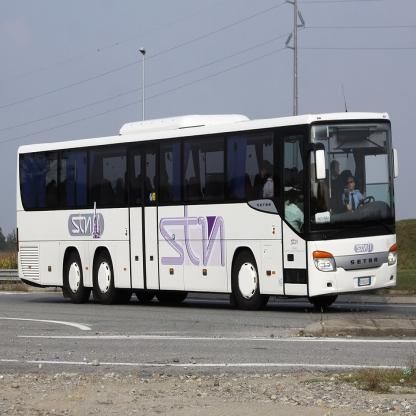Bus: (18, 113, 398, 307)
